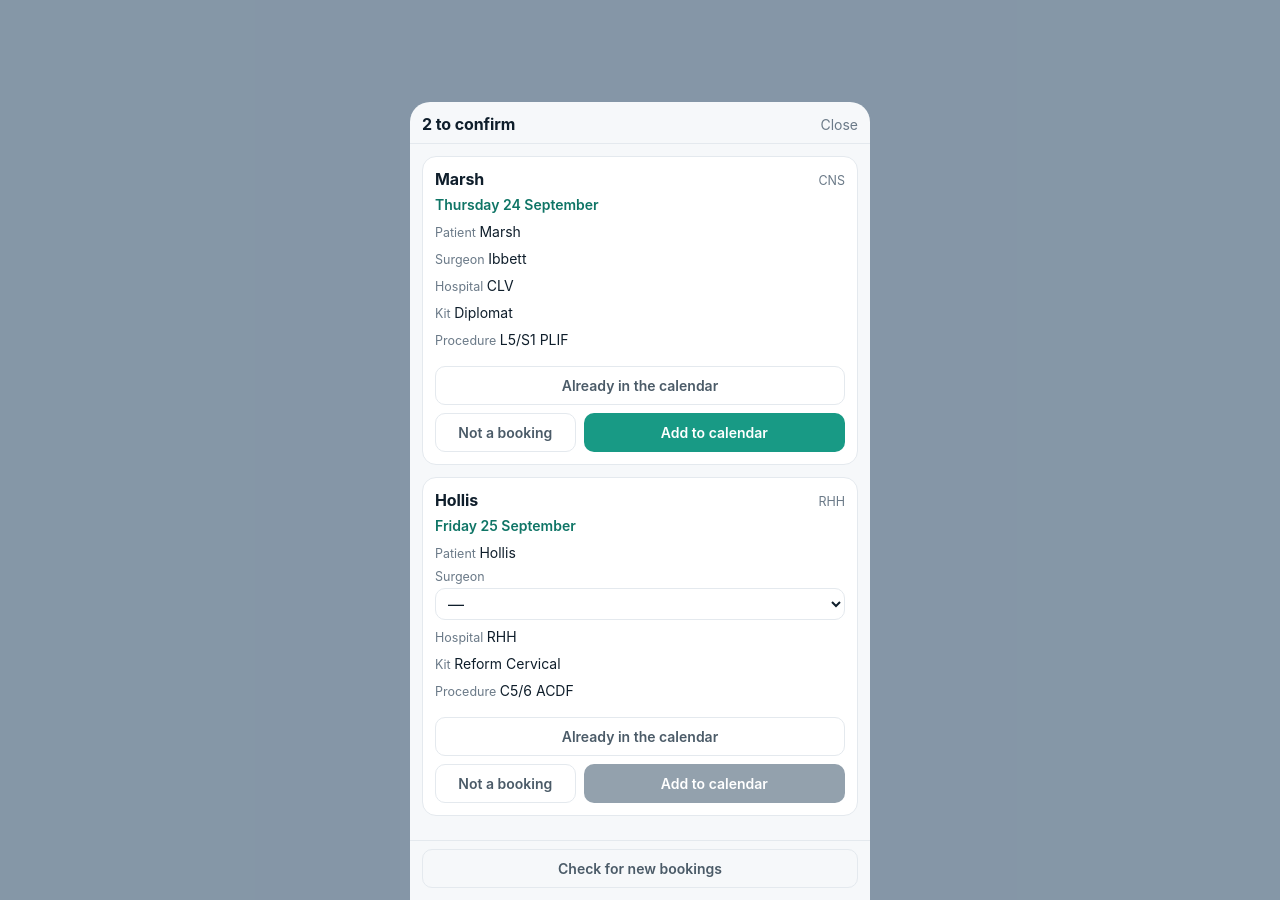
Scenario: what a scan says it did › owns up to the emails it did not get to
Check: the text "Marsh" next to "CNS" is shown, box 435,168 -> 484,188
Click the button "Check for new bookings".
click(640, 868)  # box 422,849 -> 858,888
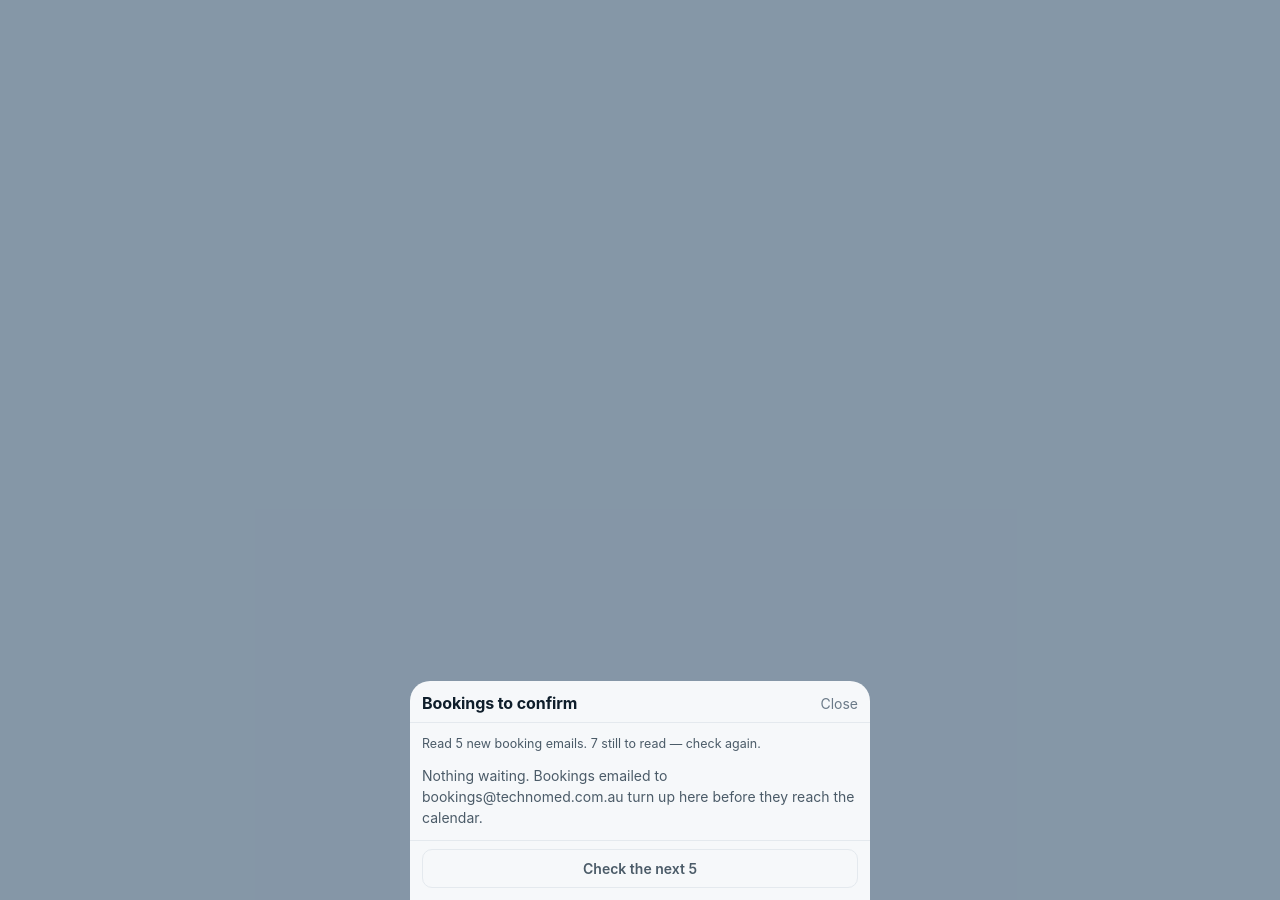
Check: the text "Read 5 new booking emails. 7 still to read — check again." is shown, box 422,736 -> 761,751
Check: the button "Check the next 5" is shown, box 422,849 -> 858,888
